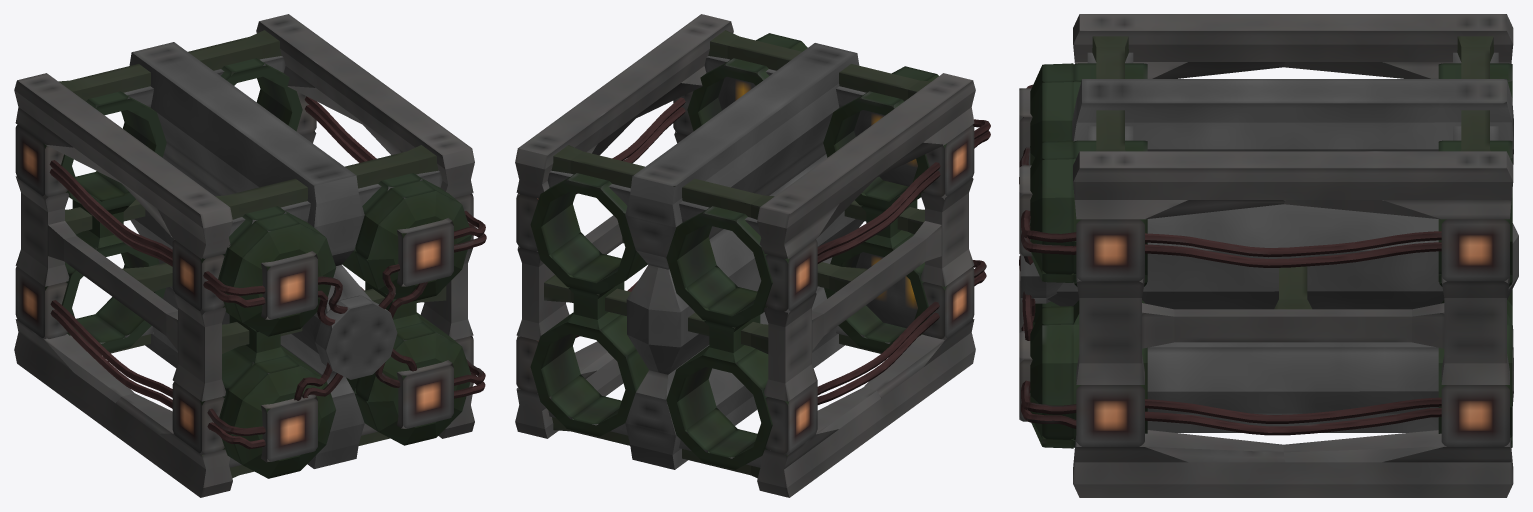
Rendered from mes_frame_base.obj.
The picture shows the model from 3 angles, left to right: view 1: azimuth 30°, elevation 25°; view 2: azimuth 150°, elevation 25°; view 3: azimuth 270°, elevation 25°; orthographic projection. The views are drawn at different scales.
Visible parts, largest first — view 1: mesh, sphere, tube, wires, cylinder; view 2: mesh, tube, wires, cylinder, sphere; view 3: mesh, wires, sphere, tube, cylinder.
Part boxes in pixels (bbox=[...]): mesh: bbox=[14, 14, 474, 497]; sphere: bbox=[219, 180, 471, 478]; tube: bbox=[43, 58, 448, 455]; wires: bbox=[49, 96, 486, 449]; cylinder: bbox=[252, 295, 406, 379]; mesh: bbox=[515, 14, 975, 497]; tube: bbox=[530, 58, 946, 469]; wires: bbox=[575, 97, 990, 404]; cylinder: bbox=[718, 76, 917, 328]; sphere: bbox=[756, 33, 938, 81]; mesh: bbox=[1019, 14, 1518, 497]; wires: bbox=[1019, 84, 1441, 435]; sphere: bbox=[1030, 63, 1073, 448]; tube: bbox=[1073, 63, 1512, 447]; cylinder: bbox=[1020, 255, 1063, 303].
Size of the model in its own units: 2 by 1.99 by 2.74.
